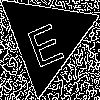E: (21, 13, 66, 69)
